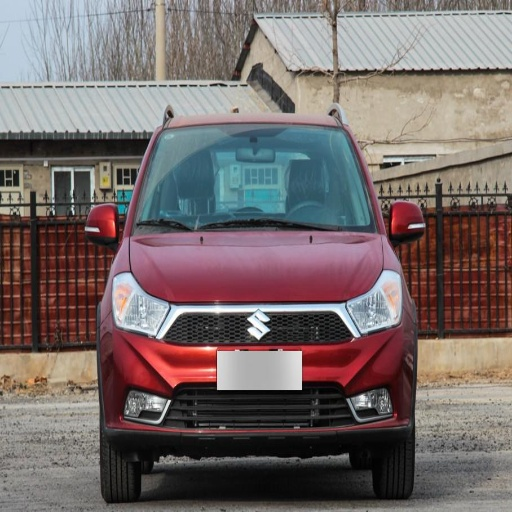front_bumper: (101, 302, 412, 438)
front_right_light: (109, 275, 190, 340)
hood: (126, 232, 384, 302)
left_mirror: (389, 202, 426, 243)
